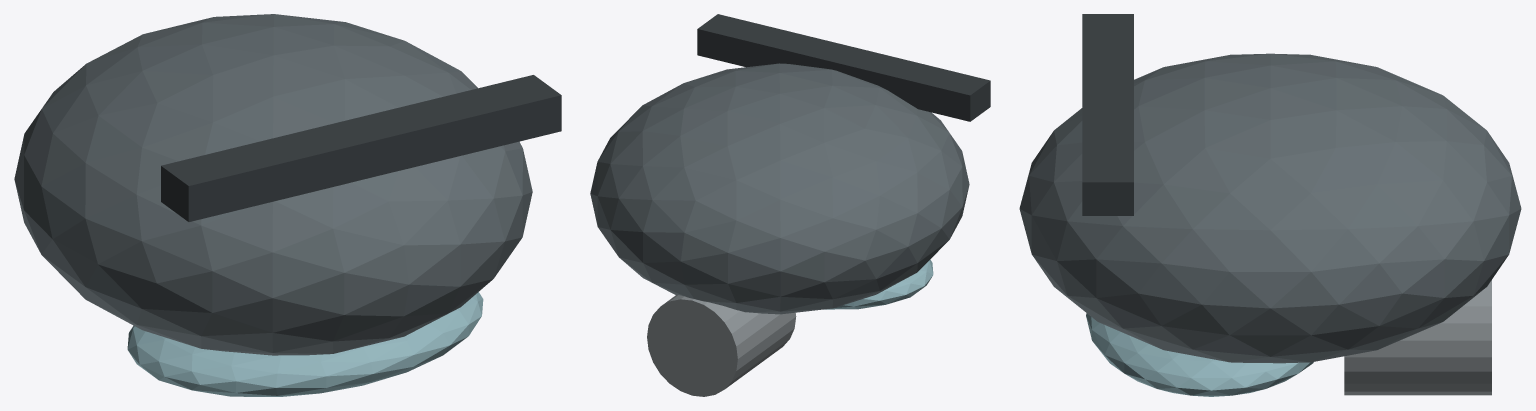
The model's file is Masque_ARI_SDIS37.glb.
3 views of the same model, side by side, from view 1: azimuth 30°, elevation 25°; view 2: azimuth 150°, elevation 25°; view 3: azimuth 270°, elevation 25° (orthographic). The views are drawn at different scales.
Visible parts, largest first — view 1: 00_Masque_face, 03_Sangle_tete, 01_Vitre_masque; view 2: 00_Masque_face, 03_Sangle_tete, 02_Raccord_respiratoire, 01_Vitre_masque; view 3: 00_Masque_face, 03_Sangle_tete, 02_Raccord_respiratoire, 01_Vitre_masque.
Part boxes in pixels (x1,y1,x2,y2): 00_Masque_face: (14, 14, 532, 355); 03_Sangle_tete: (161, 75, 561, 221); 01_Vitre_masque: (127, 292, 483, 396); 00_Masque_face: (590, 63, 969, 314); 03_Sangle_tete: (697, 14, 990, 121); 02_Raccord_respiratoire: (647, 295, 796, 396); 01_Vitre_masque: (824, 259, 933, 309); 00_Masque_face: (1019, 53, 1521, 363); 03_Sangle_tete: (1082, 14, 1133, 215); 02_Raccord_respiratoire: (1344, 280, 1491, 395); 01_Vitre_masque: (1086, 313, 1313, 396).
Size of the model in its own units: 0.32 by 0.225 by 0.34.
